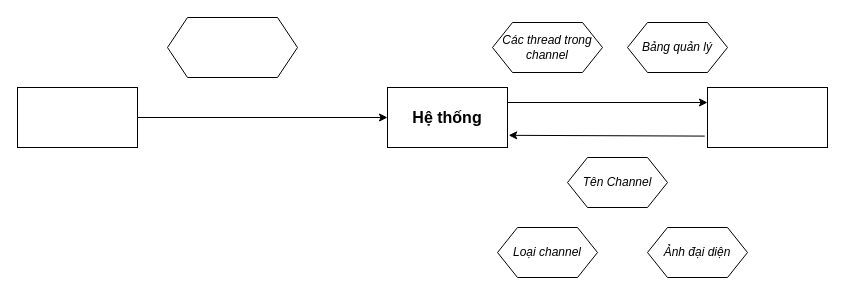
Some shapes in this 845 by 295 pixel diagram are drawn without their labels. Here are the shapes that lost their labels. From the top down, the centre of each, then its label:
(232,47): Nội dung cần thông báo
(77,117): Admin
(767,117): User
